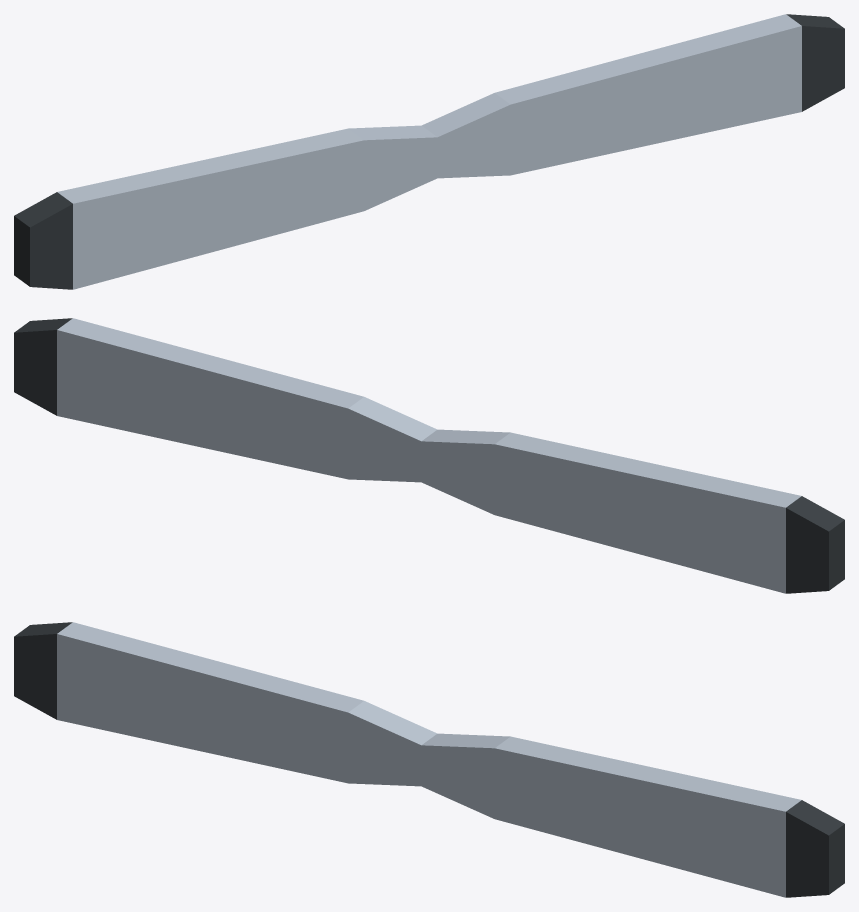
3 views of the same model, one above another, from view 1: azimuth 30°, elevation 25°; view 2: azimuth 150°, elevation 25°; view 3: azimuth 330°, elevation 25° (orthographic).
Visible parts, largest first — view 1: Plane_03_2; view 2: Plane_03_2; view 3: Plane_03_2.
Boxes of the visible parts, x1,y1,x2,y2 form: Plane_03_2: [14, 14, 844, 289]; Plane_03_2: [14, 318, 844, 593]; Plane_03_2: [14, 622, 844, 897].
Bounding box in the file's own units: 187 × 18.87 × 6.4.
